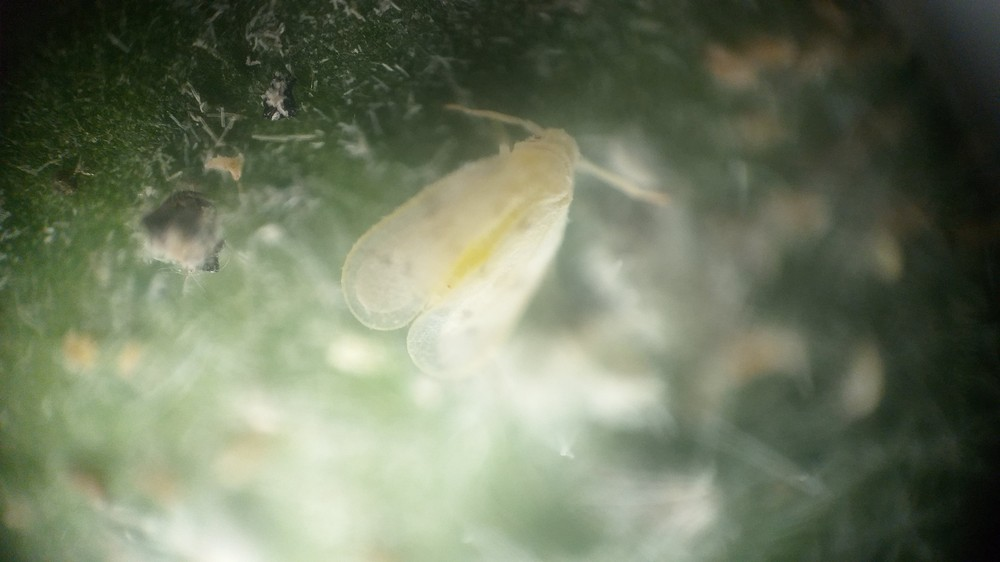Mosca Blanca: (323, 86, 691, 411)
